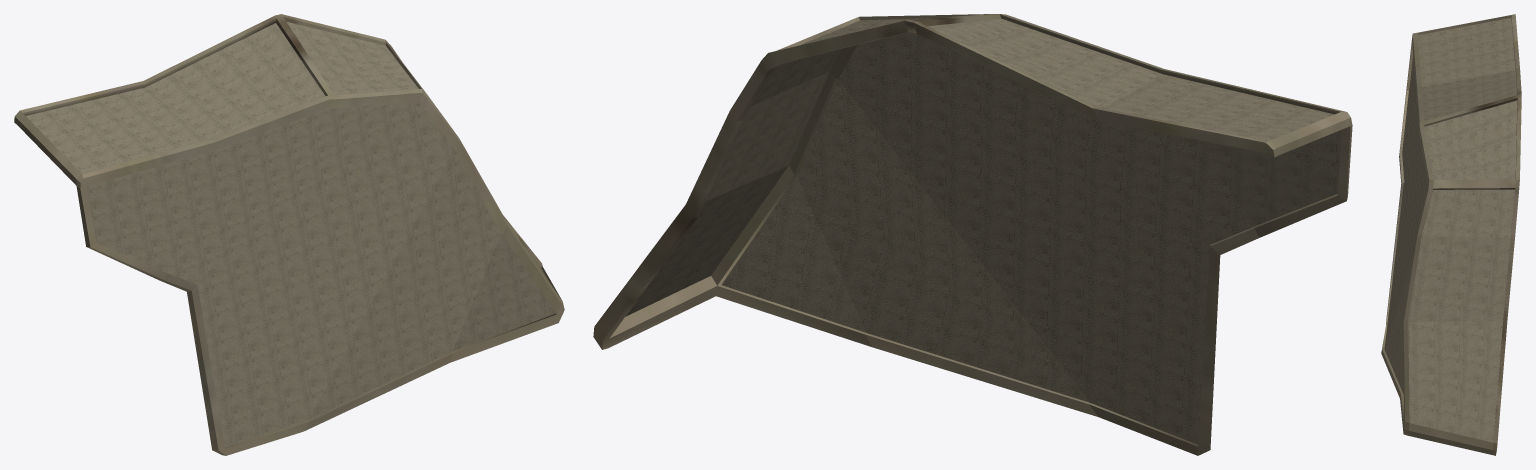
Rendered from prop_german_armored_car_piece3.glb.
3 views of the same model, side by side, from view 1: azimuth 30°, elevation 25°; view 2: azimuth 150°, elevation 25°; view 3: azimuth 270°, elevation 25° (orthographic). The views are drawn at different scales.
Bounding box in the file's own units: 37.27 × 23.97 × 10.57.
2 materials, 2 textured.
